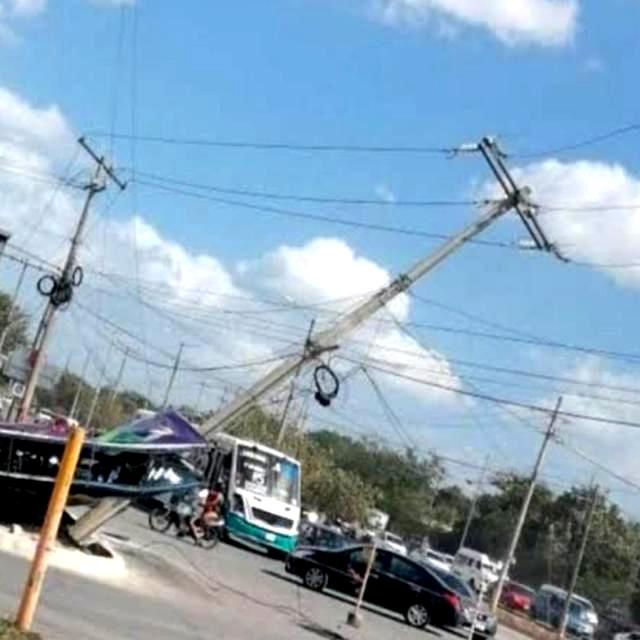Broken Pole: (58, 130, 568, 551)
